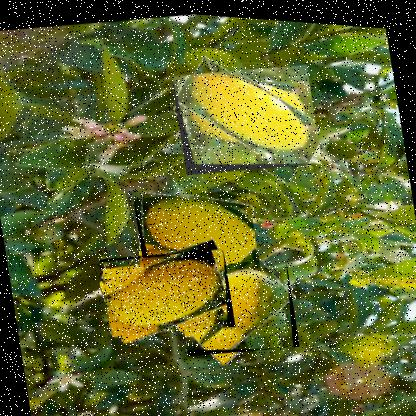lemon: (169, 52, 321, 181), (96, 238, 234, 344), (172, 247, 298, 361), (131, 178, 260, 286)
